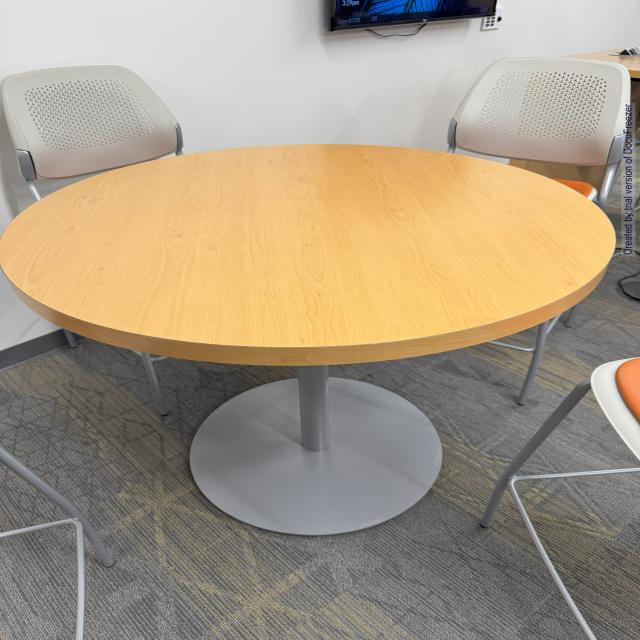Table: (0, 134, 619, 561)
